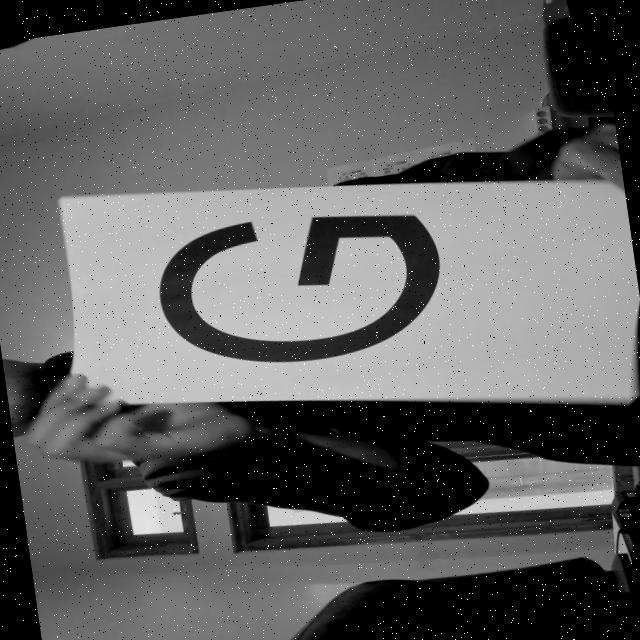g: (133, 184, 501, 381)
